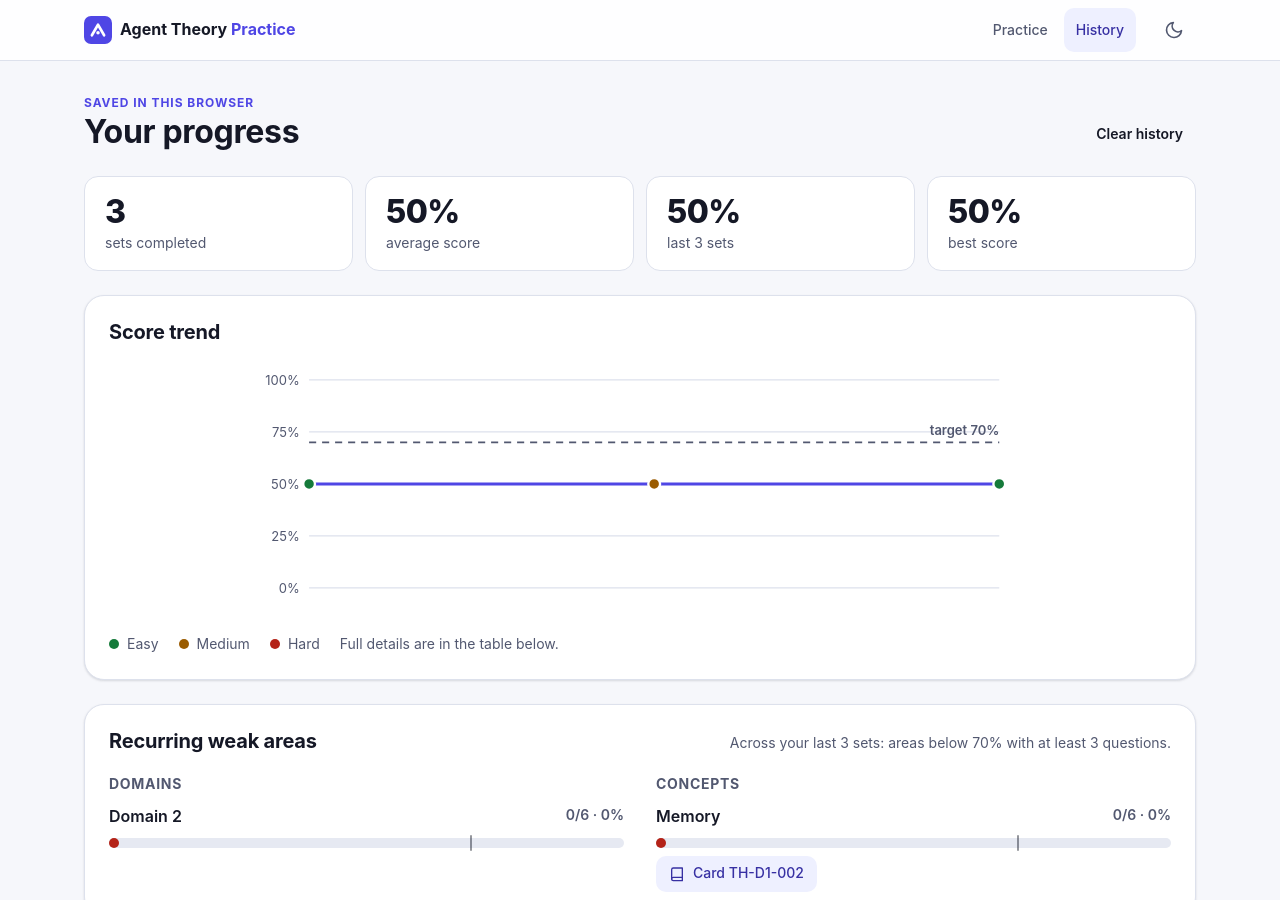
Test case: HistoryPage › shows recurring weak domains and concepts with theory cards to study
The width and height of the screenshot is (1280, 900).
Click the button "Card TH-D1-002": x=736, y=874 [656,856,817,892]
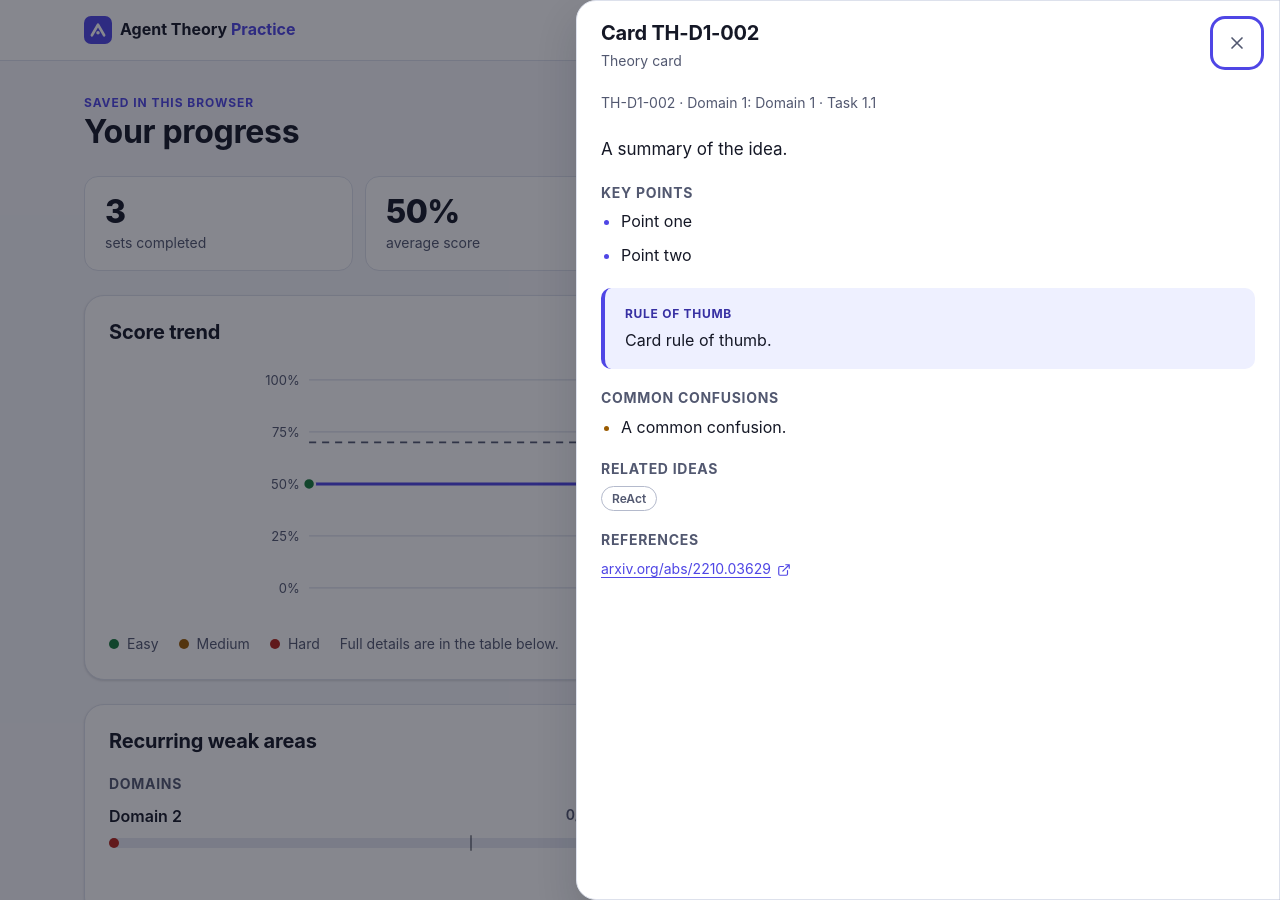
Now the dialog "Card TH-D1-002" is shown, box [576,0,1279,899]
